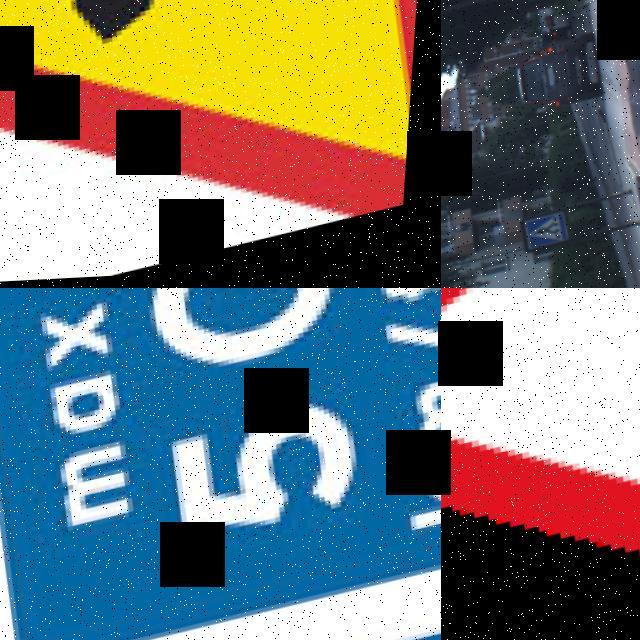102: (0, 288, 441, 640)
137: (0, 0, 441, 288)
180: (521, 211, 584, 261)
Road hump: (441, 288, 640, 640)
